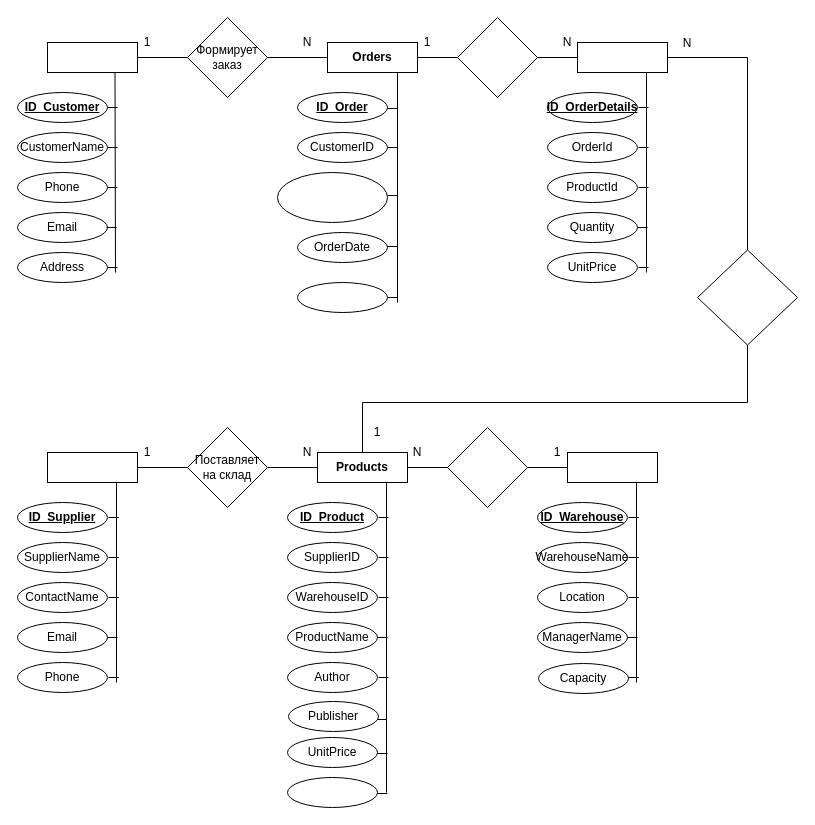
Image size: 815x825. Some labels were removed from this diagram. Here are the shapes that lost their labels. From the top down, the centre of each, then its label:
At (x=92, y=57): "Customers".
At (x=497, y=57): "Содержит".
At (x=622, y=57): "OrderDetails".
At (x=332, y=197): "TotalAmount = sum (Quantity * UnitPrice)".
At (x=342, y=297): "Status".
At (x=747, y=297): "Добавляется в заказ".
At (x=92, y=467): "Suppliers".
At (x=487, y=467): "Хранится на складе".
At (x=612, y=467): "Warehouses".
At (x=332, y=792): "QuantityInStock".
